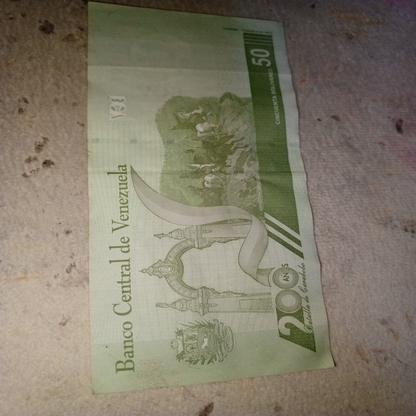fifty-back-vef: (88, 2, 336, 395)
